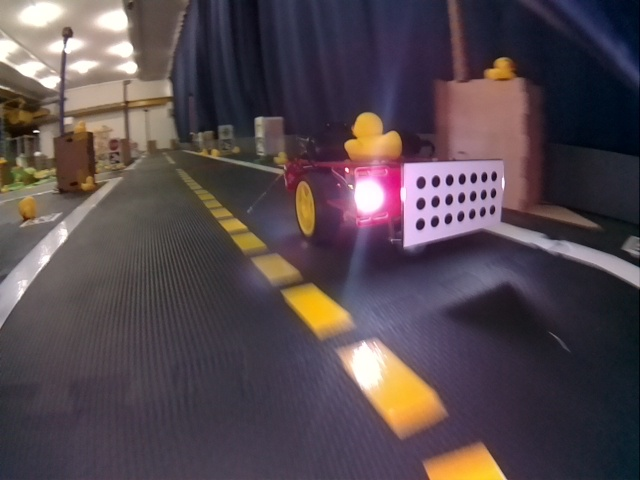Duckie: (348, 114, 402, 158), (485, 58, 514, 81), (20, 196, 36, 219), (273, 152, 287, 165), (81, 177, 93, 188), (73, 121, 84, 132), (210, 150, 219, 157), (200, 149, 208, 156), (232, 147, 240, 154)
Duckiebot: (285, 138, 503, 252)
